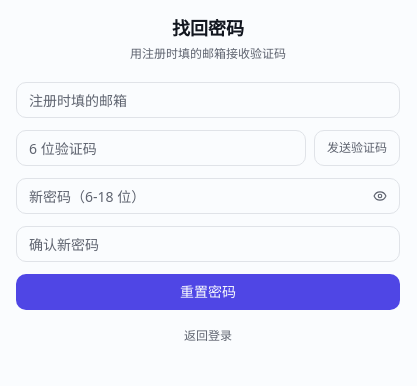
Test: 找回密码页 › 发送验证码 → 冷却倒计时 → 用验证码重置并回到登录页
This screenshot has width=417, height=386.
Type "a@b.com" into the field with placeholder "注册时填的邮箱".
click(208, 100); type("a@b.com")  # box [16,82,400,118]
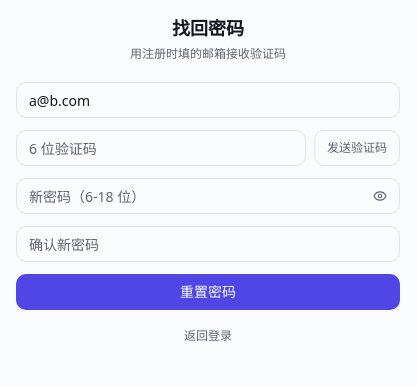
Click the button "发送验证码".
click(357, 148)  # box [314,130,400,166]
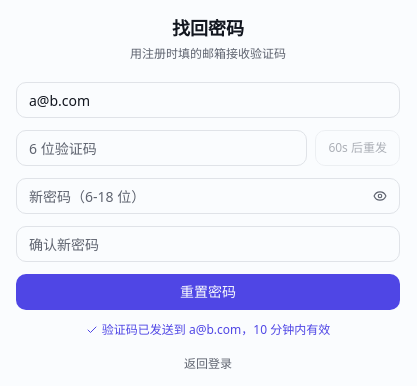
Expected: the text "后重发" is shown, [315,130,400,166]
Type "123456" into the field with placeholder "6 位验证码".
click(162, 148); type("123456")  # box [16,130,307,166]
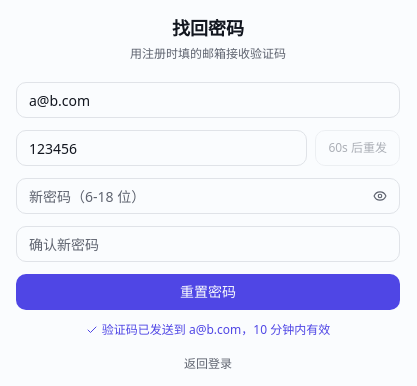
Type "newpass1" into the password field with placeholder "新密码（6-18 位）".
click(208, 196); type("newpass1")  # box [16,178,400,214]
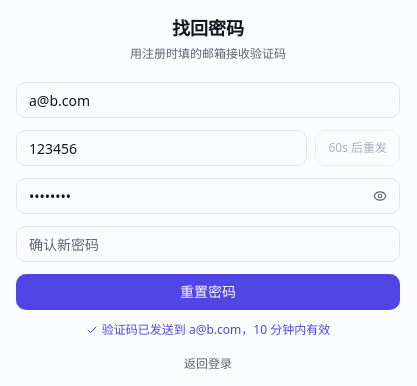
Type "newpass1" into the password field with placeholder "确认新密码".
click(208, 244); type("newpass1")  # box [16,226,400,262]
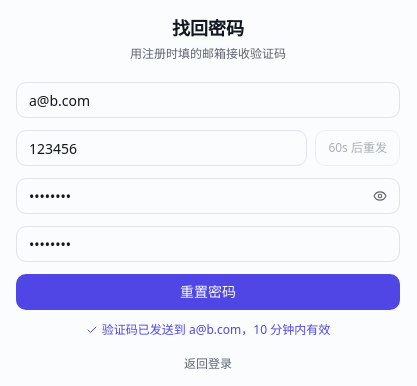
Click the button "重置密码".
click(208, 292)  # box [16,274,400,310]
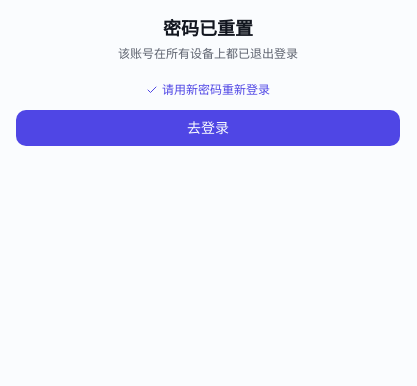
Expected: the text "密码已重置" is shown, [163,16,253,40]
